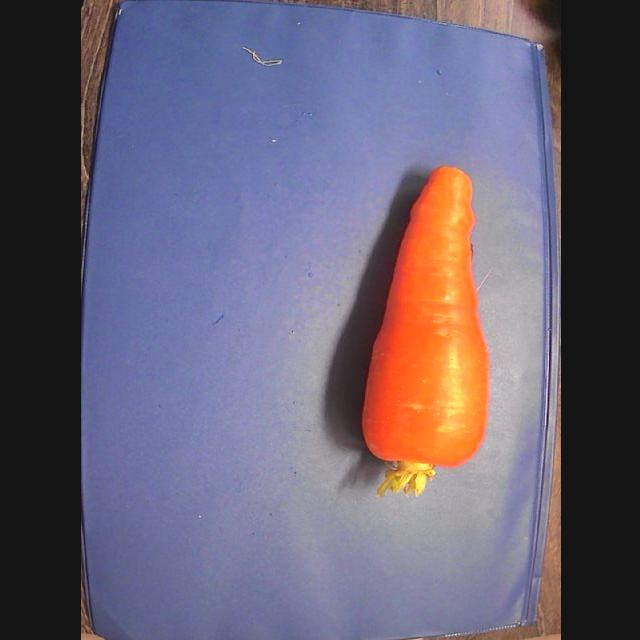zanahoria: (361, 167, 489, 495)
